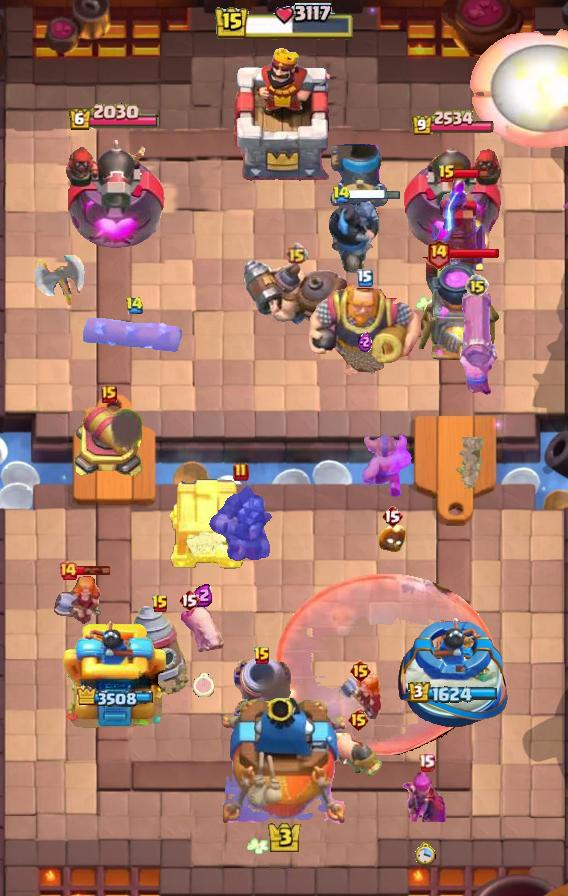battle-healer: (454, 292, 500, 396)
bomb: (167, 476, 247, 570)
bomber: (377, 525, 407, 553)
clock: (213, 3, 355, 43)
electro-spirit: (192, 583, 214, 607), (358, 331, 372, 352)
elixir: (415, 841, 437, 867), (193, 673, 215, 697)
emote: (348, 188, 402, 201), (448, 247, 500, 259), (454, 167, 490, 180), (76, 565, 112, 576)
evolution-symbol: (400, 764, 452, 822)
executioner: (332, 733, 384, 777)
fisherman: (453, 437, 488, 489)
giant: (177, 602, 229, 656)
giant-skeleton: (307, 278, 423, 378)
goblin-cage: (230, 656, 294, 726)
goblin-giant: (360, 432, 411, 498)
hog-rider: (53, 575, 105, 629), (338, 672, 382, 722)
hunter: (411, 257, 501, 365)
ice-spirit-evolution-symbol: (429, 177, 489, 273)
inferno-dragon: (207, 484, 275, 572), (326, 196, 382, 276)
king-tower: (223, 698, 345, 826), (229, 43, 339, 181)
magic-archer: (130, 604, 190, 698)
minion: (81, 316, 187, 354)
musketeer: (330, 144, 390, 208)
phoenix-egg: (274, 573, 497, 757)
queen-tower: (395, 614, 514, 730), (60, 617, 168, 731)
royal-giant: (34, 255, 86, 307)
royal-recruit: (73, 407, 145, 481)
selected: (68, 103, 160, 132), (411, 111, 495, 138), (408, 680, 498, 703), (75, 686, 153, 708)
text: (426, 238, 451, 269), (465, 274, 489, 298), (285, 242, 308, 266), (349, 659, 372, 683), (347, 708, 370, 732), (381, 504, 403, 528), (178, 588, 200, 612), (58, 561, 78, 581), (438, 164, 456, 184), (151, 594, 169, 614), (253, 646, 271, 666), (333, 185, 352, 203), (124, 297, 143, 315), (417, 752, 435, 771), (233, 462, 249, 482), (357, 269, 373, 287), (101, 385, 117, 403)
tower-bar: (60, 132, 167, 256), (404, 138, 505, 256)
valkyrie: (468, 29, 568, 149)
wizard: (240, 257, 352, 327)
